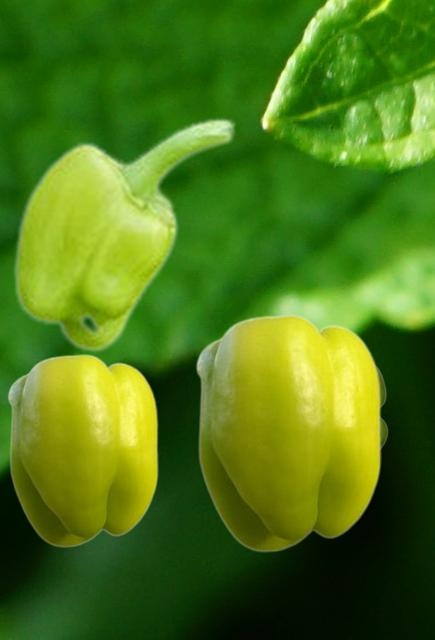bell_pepper: (12, 116, 236, 352), (195, 313, 380, 551), (7, 353, 157, 546)
